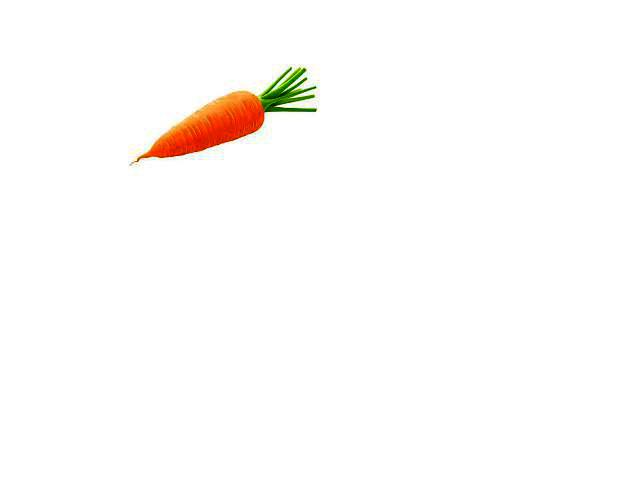carrot: (139, 89, 270, 166)
